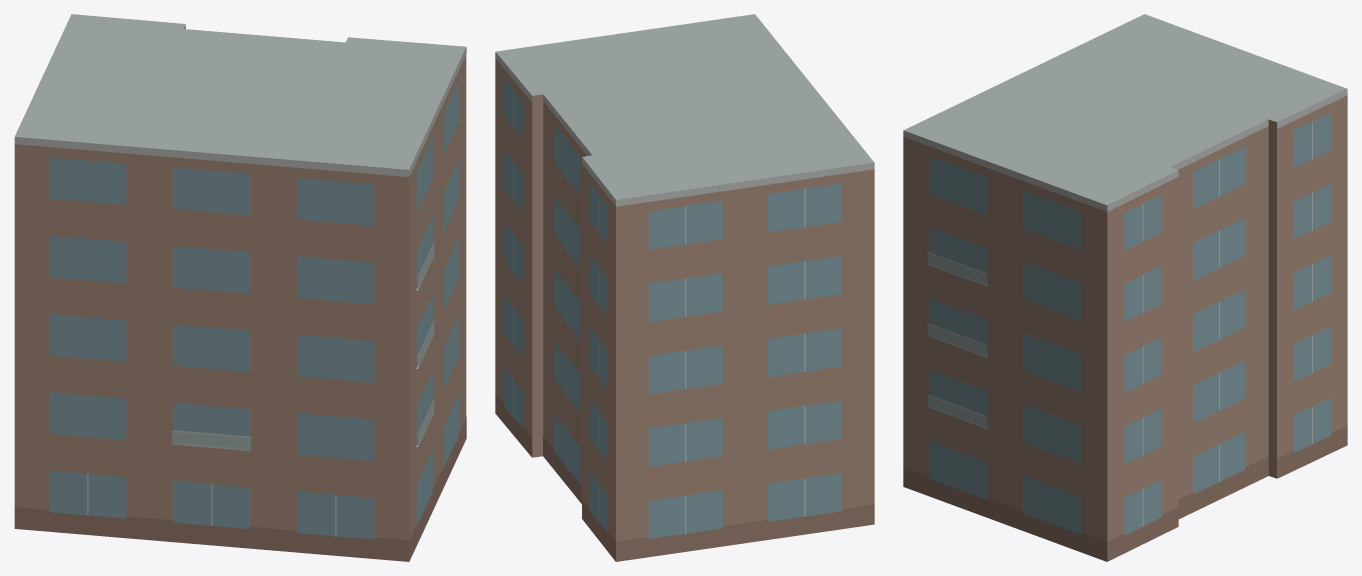
Rendered from survey-upis-33009999.glb.
3 renders of one model, left to right at view 1: azimuth 30°, elevation 25°; view 2: azimuth 150°, elevation 25°; view 3: azimuth 270°, elevation 25°, orthographic. The views are drawn at different scales.
Visible parts, largest first — view 1: survey-upis-33009999.tmp; view 2: survey-upis-33009999.tmp; view 3: survey-upis-33009999.tmp.
Part boxes in pixels (x1,y1,x2,y2): survey-upis-33009999.tmp: [14, 14, 466, 561]; survey-upis-33009999.tmp: [495, 14, 874, 561]; survey-upis-33009999.tmp: [903, 14, 1347, 561].
Size of the model in its own units: 15.21 by 13.2 by 14.91.
